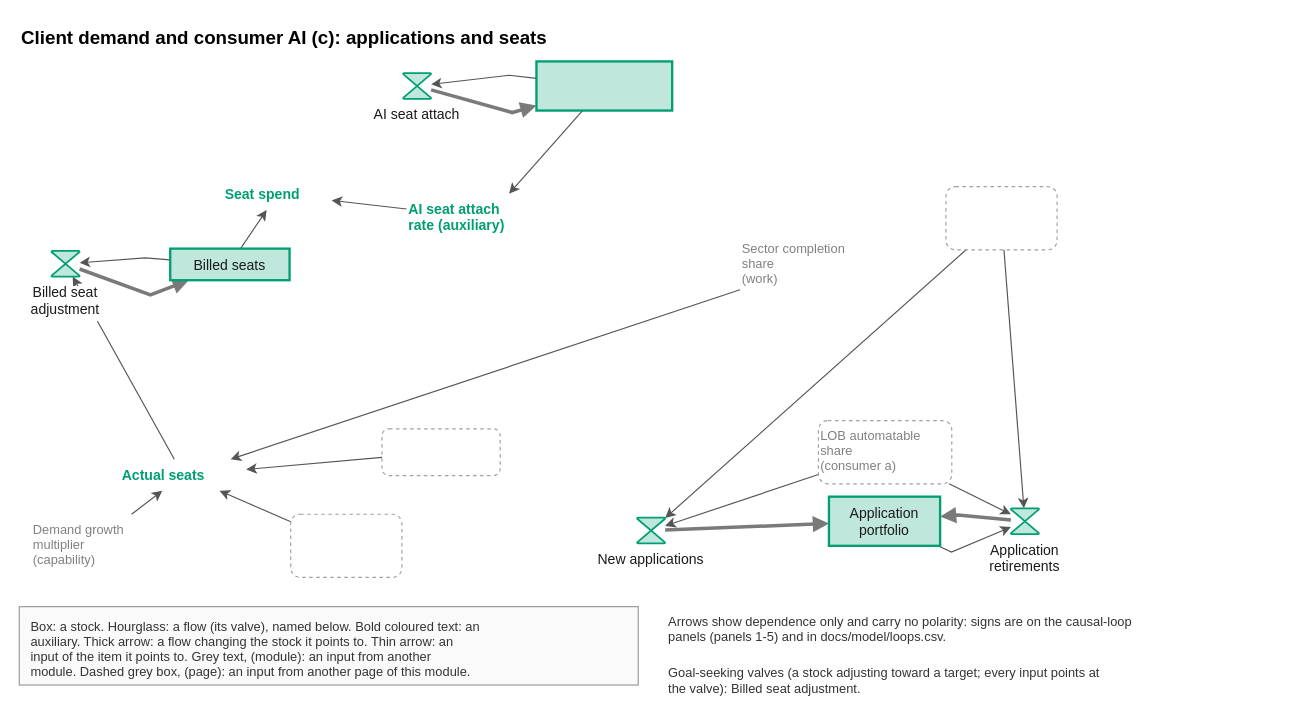
Some shapes in this 1298 by 724 pixel diagram are drawn without their labels. Each missing label, with the box of its shape:
AI seat attach rate (stock): (535, 60, 673, 111)
Consumer AI adoption (consumer a): (945, 185, 1057, 250)
Consumer IT headcount (consumer b): (290, 513, 402, 577)
LOB headcount (consumer a): (381, 428, 500, 476)
